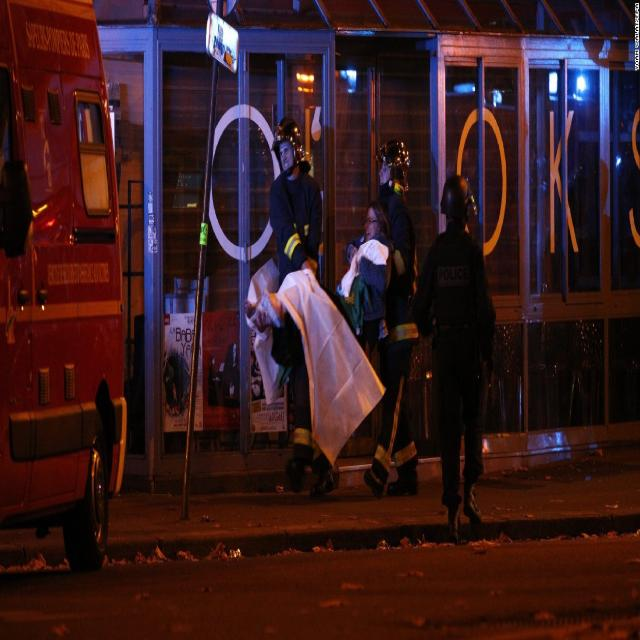body: (405, 167, 504, 542), (268, 114, 338, 500), (244, 197, 391, 346), (364, 136, 419, 498), (334, 231, 372, 334)
